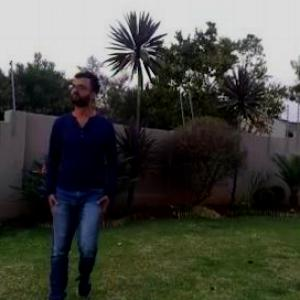follow: (39, 42, 124, 299)
